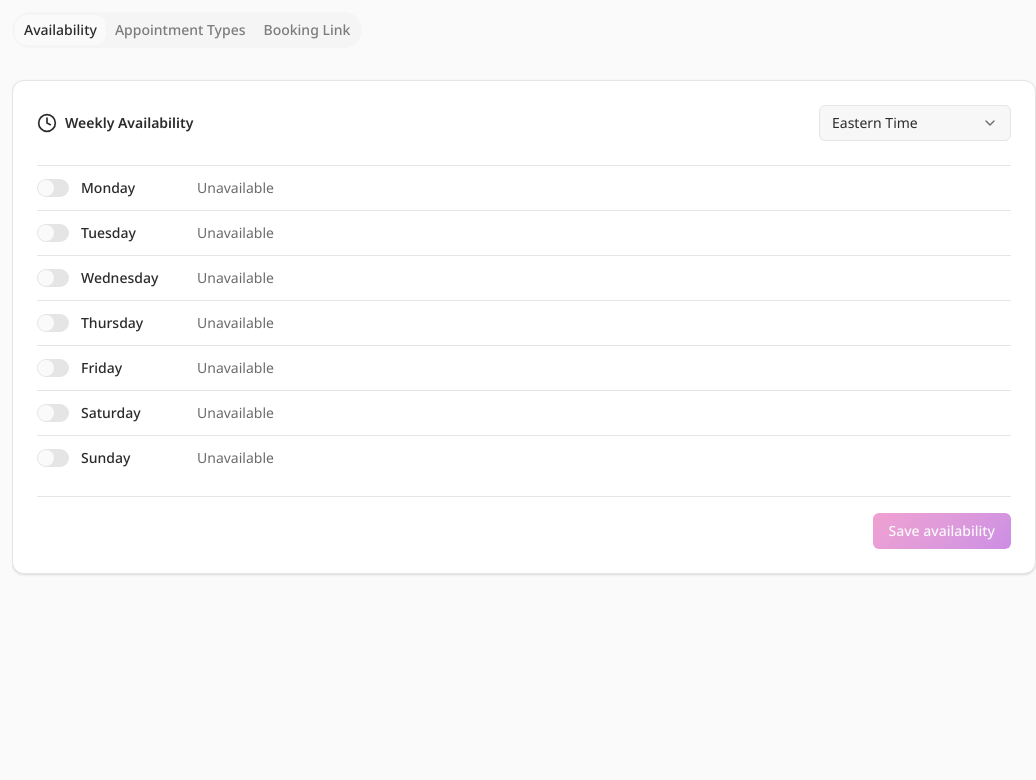
Test: AppointmentSettings scheduling fixes › shows a save failure, preserves the edited schedule and timezone, and allows retry
This screenshot has width=1036, height=780.
Click the switch named "Available on Monday". click: (53, 188)
box: [37,179,69,197]
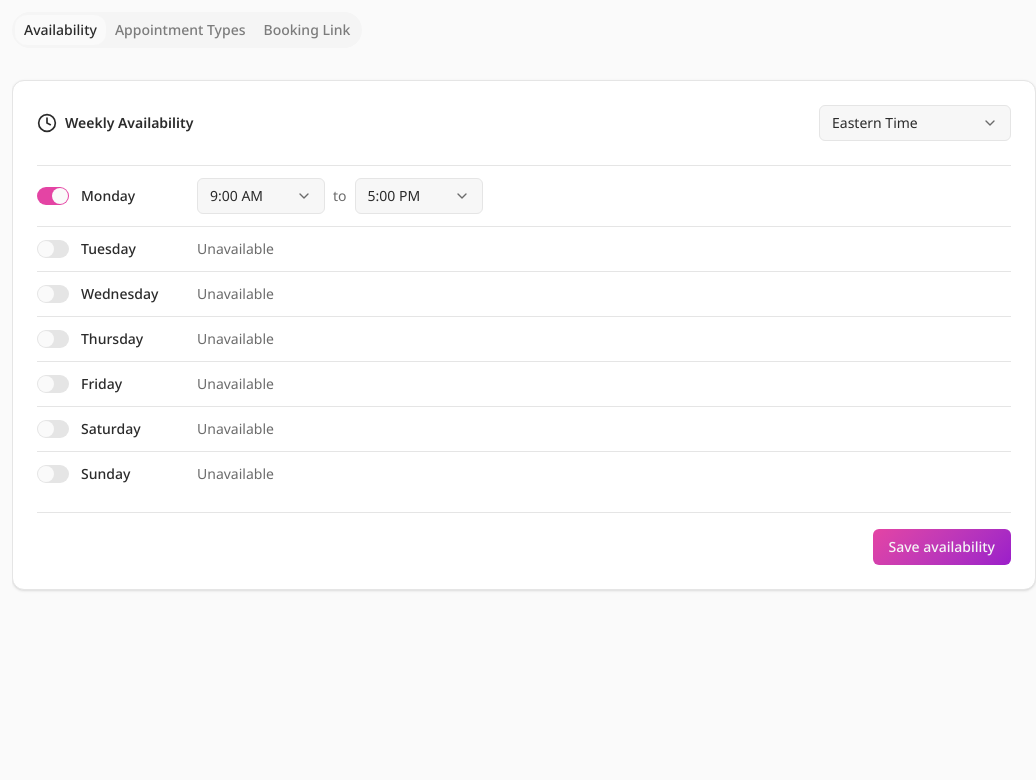
Click the dropdown named "Timezone". click: (915, 123)
box: [819,105,1011,141]
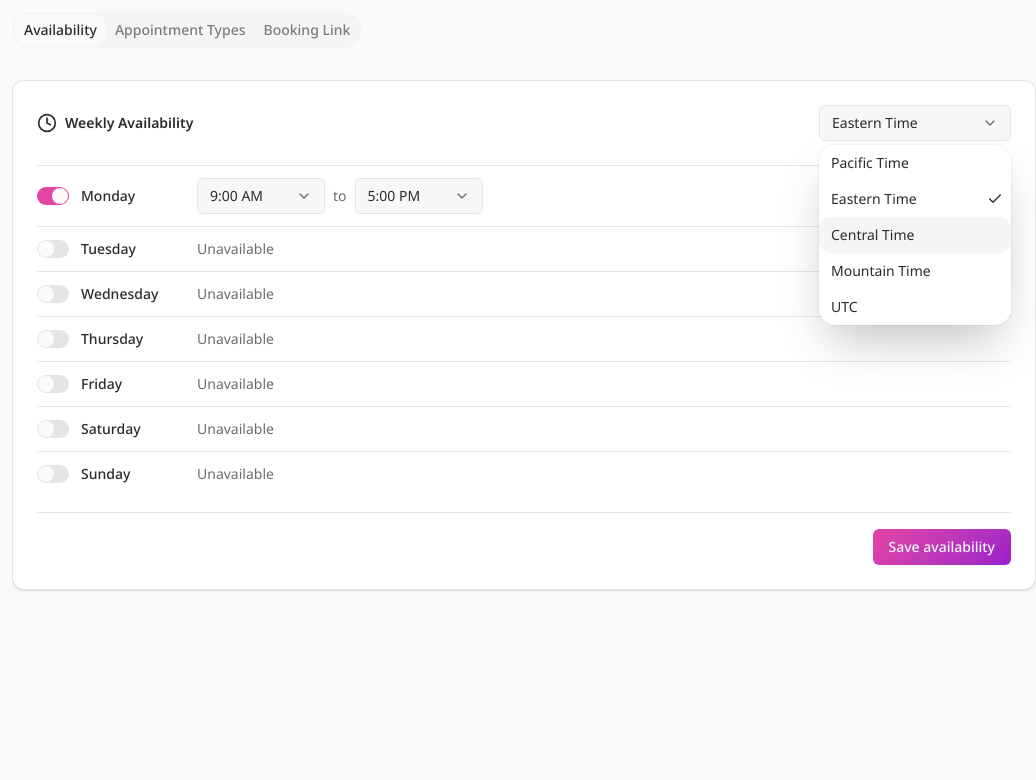
Click the option "Central Time". click: (915, 235)
box: [819,217,1011,253]
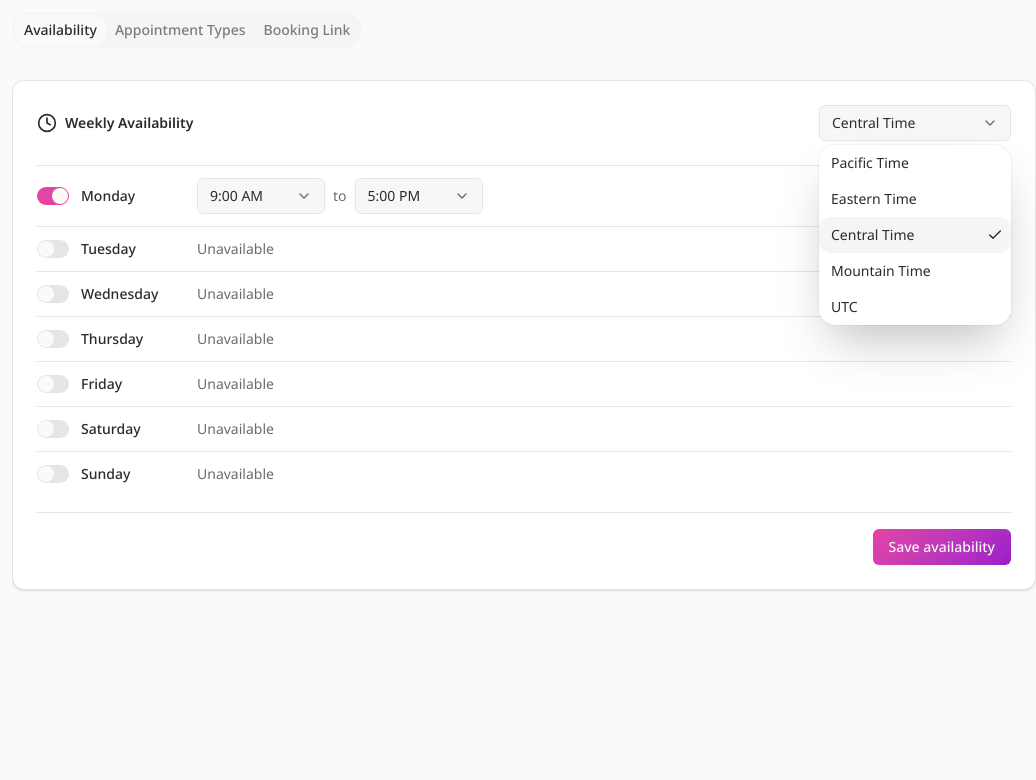
Check: the dropdown named "Timezone" shows "Central Time", box [819,105,1011,141]
Click the button "Save availability". click: (942, 547)
box: [872,529,1011,565]
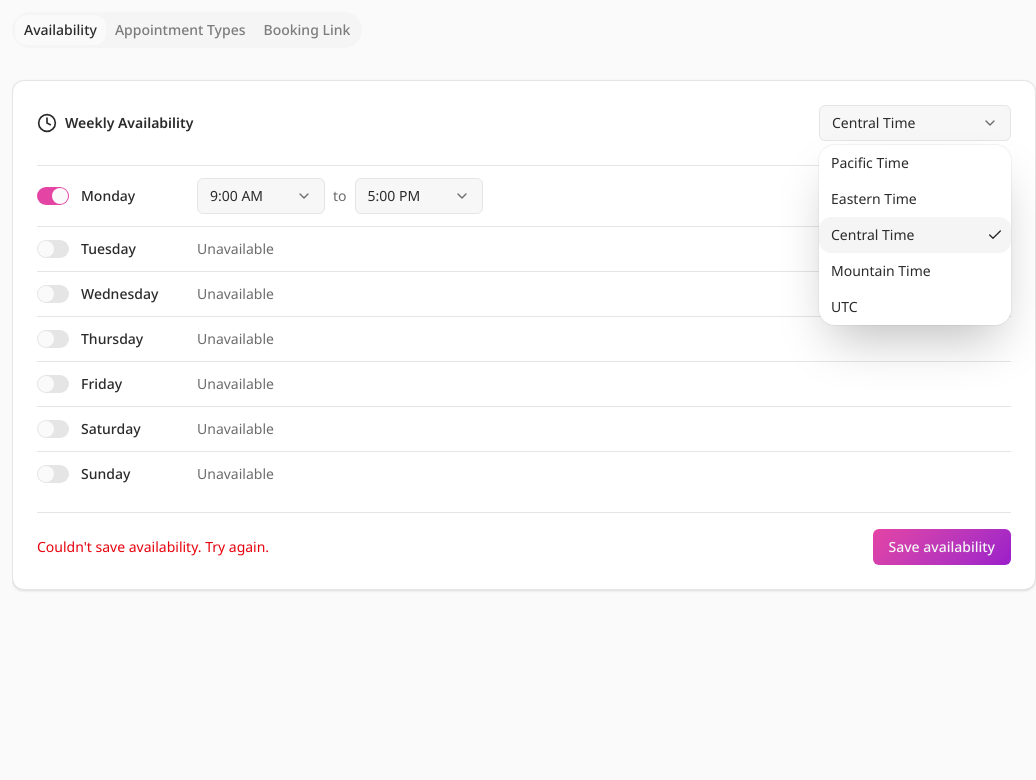
Check: the dropdown named "Monday end time" shows "5:00 PM", box [354,178,482,214]
Check: the dropdown named "Timezone" shows "Central Time", box [819,105,1011,141]
Check: the message reads "Couldn't save availability. Try again.", box [37,537,269,556]
Click the button "Save availability". click: (942, 547)
box: [872,529,1011,565]
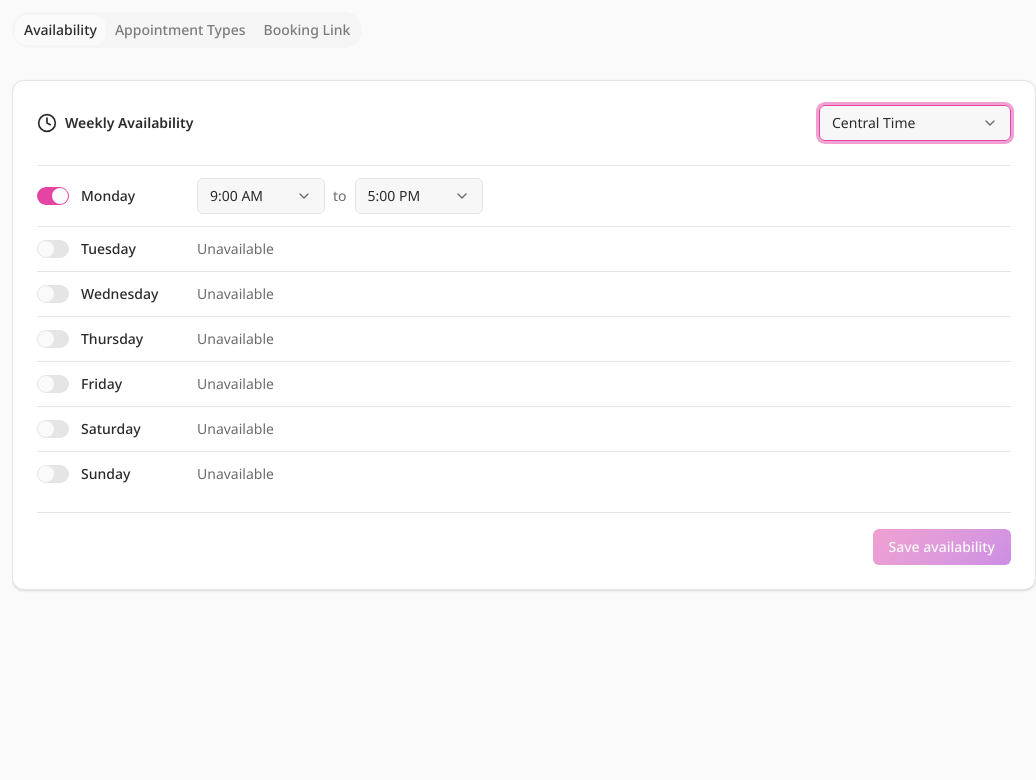
Check: the message "Couldn't save availability. Try again." is gone
Check: the button "Save availability" is disabled, box [872,529,1011,565]
